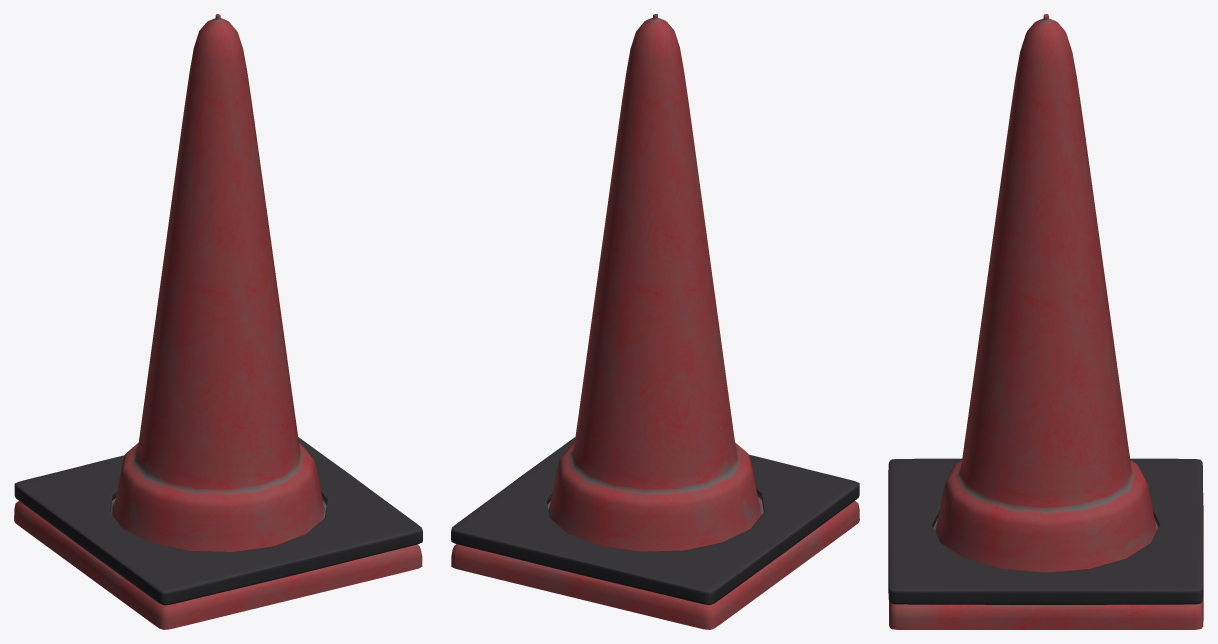
Rendered from ColorCone_Basic_Dirty_Red.fbx.
The picture shows the model from 3 angles, left to right: view 1: azimuth 30°, elevation 25°; view 2: azimuth 150°, elevation 25°; view 3: azimuth 270°, elevation 25°; orthographic projection. The views are drawn at different scales.
Visible parts, largest first — view 1: ColorCone_Basic_Dirty_Red; view 2: ColorCone_Basic_Dirty_Red; view 3: ColorCone_Basic_Dirty_Red.
Boxes of the visible parts, left/top/right/bottom form: ColorCone_Basic_Dirty_Red: left=14, top=14, right=422, bottom=629; ColorCone_Basic_Dirty_Red: left=451, top=14, right=859, bottom=629; ColorCone_Basic_Dirty_Red: left=888, top=14, right=1203, bottom=629.
Size of the model in its own units: 38.04 by 38.06 by 73.14.
1 material, 1 textured.
